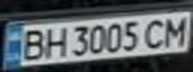0: (87, 21, 109, 55), (106, 20, 127, 53)
3: (69, 22, 90, 56)
5: (121, 18, 145, 52)
B: (15, 27, 48, 62)
C: (139, 16, 172, 50)
H: (39, 25, 69, 60)
M: (160, 14, 190, 47)
